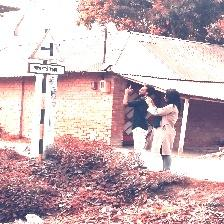Side-road-left: (28, 27, 65, 75)
